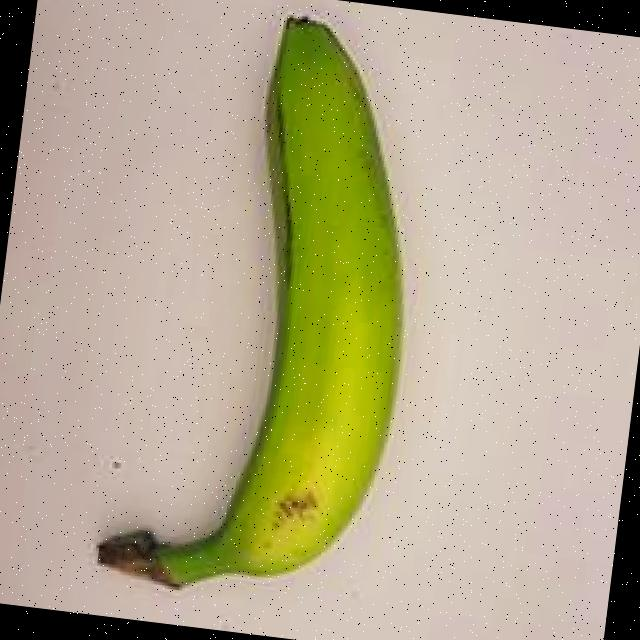Unripe: (65, 0, 460, 623)
